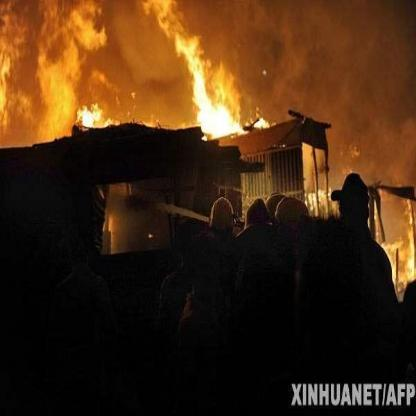fire: (2, 4, 270, 137), (372, 183, 414, 293), (102, 206, 117, 250)
